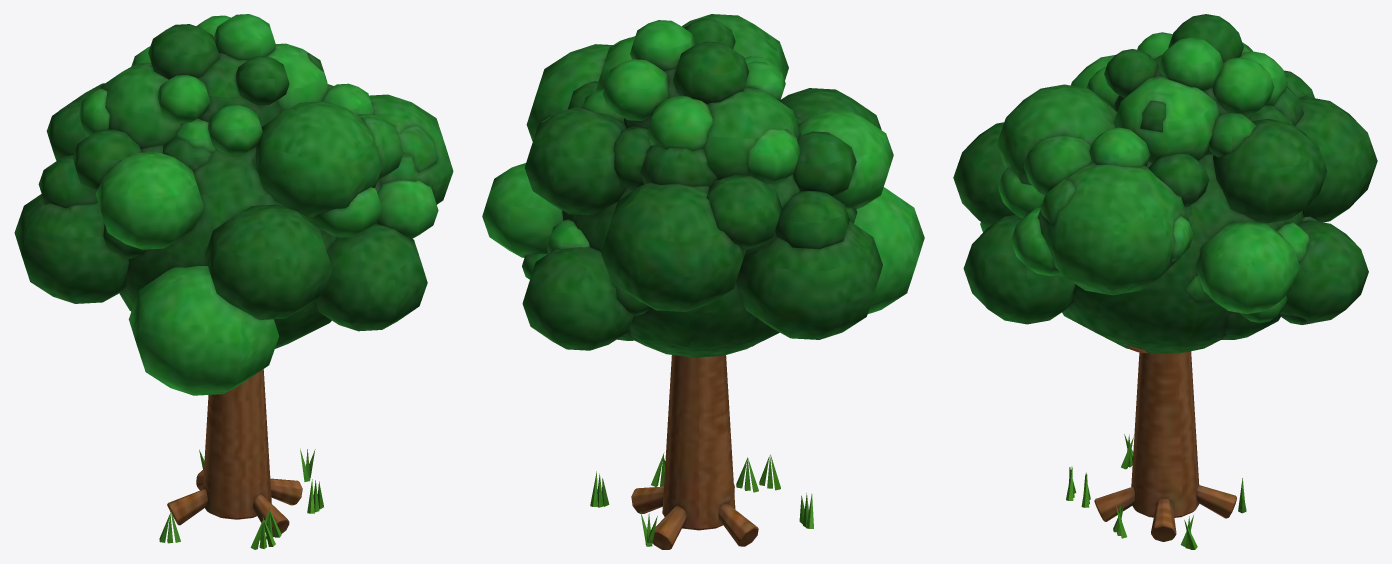
File: lime_tree.glb
3 views of the same model, side by side, from view 1: azimuth 30°, elevation 25°; view 2: azimuth 150°, elevation 25°; view 3: azimuth 270°, elevation 25° (orthographic). The views are drawn at different scales.
Visible parts, largest first — view 1: crown, lime_tree; view 2: crown, lime_tree; view 3: crown, lime_tree.
Part boxes in pixels (box(x1,y1,x2,y2)): crown: box(14, 14, 453, 395); lime_tree: box(159, 369, 323, 549); crown: box(482, 14, 924, 357); lime_tree: box(590, 345, 813, 549); crown: box(953, 14, 1377, 353); lime_tree: box(1066, 346, 1246, 549).
Size of the model in its own units: 1.11 by 1.37 by 1.09.
Materials: 1 (1 with a texture image).
